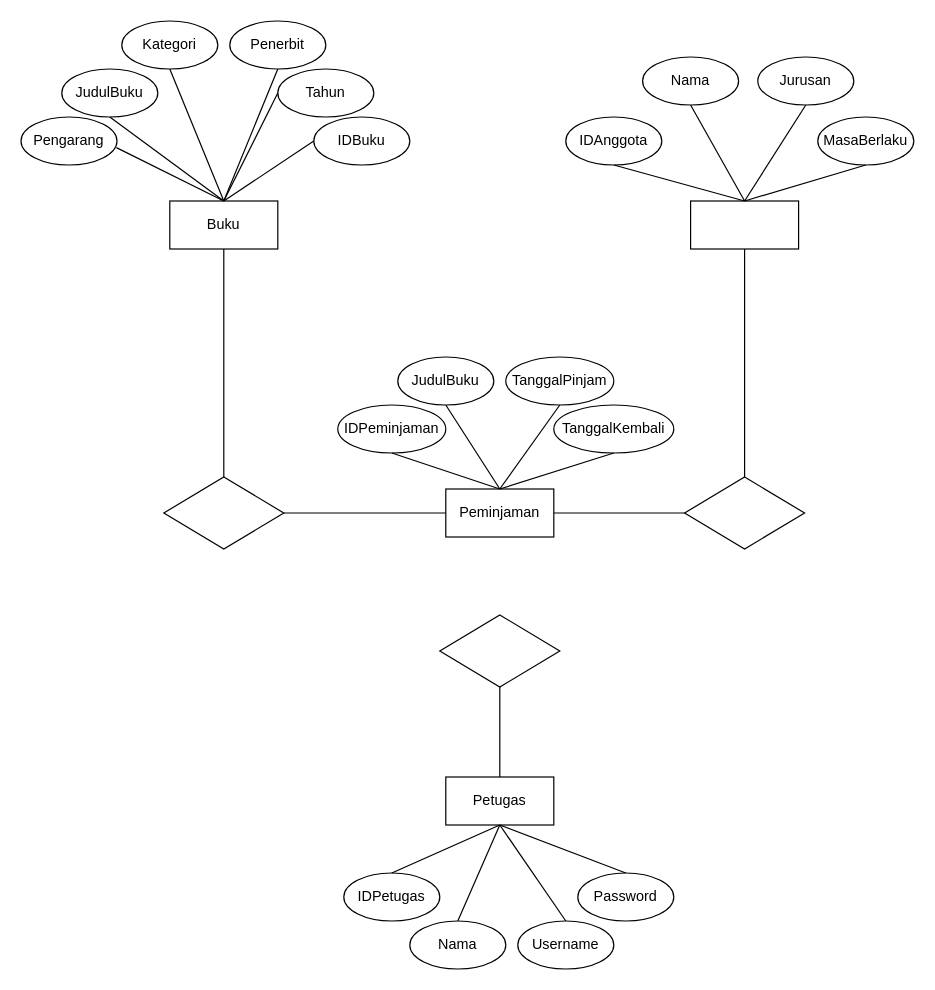
Image size: 935x990. Some labels were removed from this diagram. Here are the shapes that lost their labels. From the top down, the centre of each, then its label:
point 744,224: Anggota
point 223,512: Meminjam
point 744,512: Melakukan
point 499,650: Melayani
